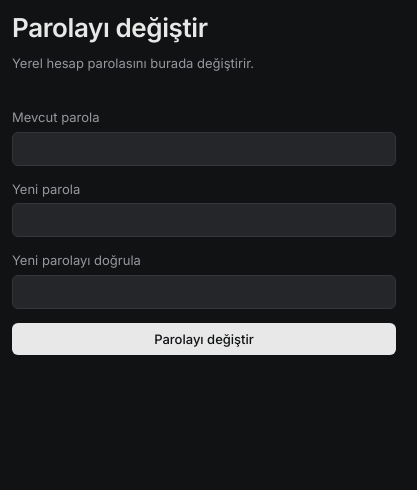
Test: a network failure in tr › is worded by the password form
Type "old-password-1" into the password field labelled "Mevcut parola" at (204, 148), box [12,132,396,166]
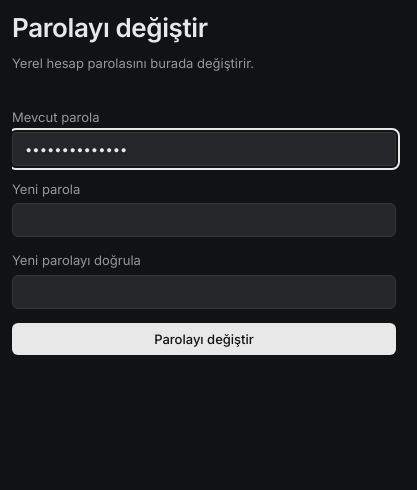
Type "new-password-12" into the password field labelled "Yeni parola" at (204, 220), box [12,203,396,237]
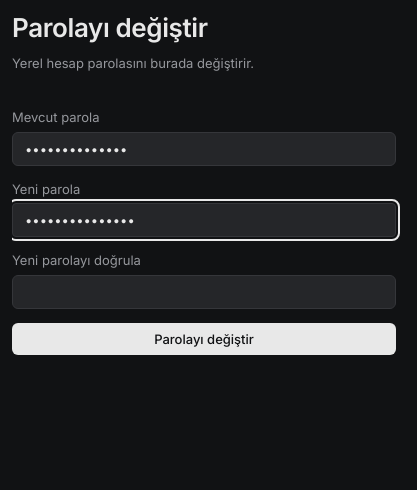
Type "new-password-12" into the password field labelled "Yeni parolayı doğrula" at (204, 292), box [12,274,396,308]
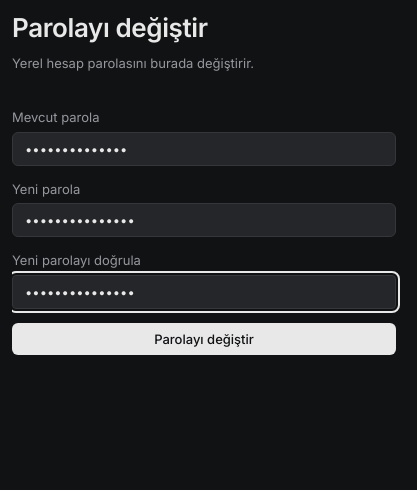
Click the button "Parolayı değiştir" at (204, 338), box [12,322,396,354]
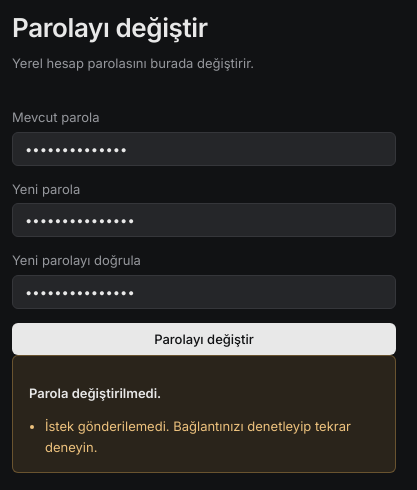
Result: the list item "İstek gönderilemedi. Bağlantınızı denetleyip tekrar deneyin." is shown at [45,416,379,458]
